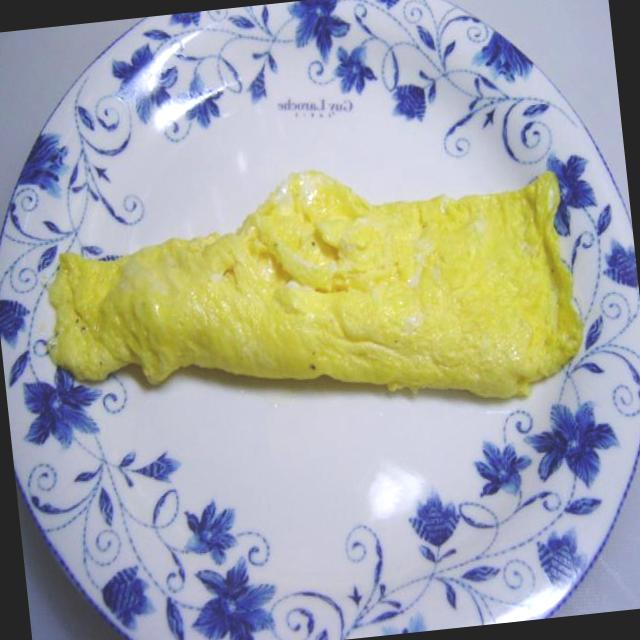Omelet: (29, 140, 592, 462)
